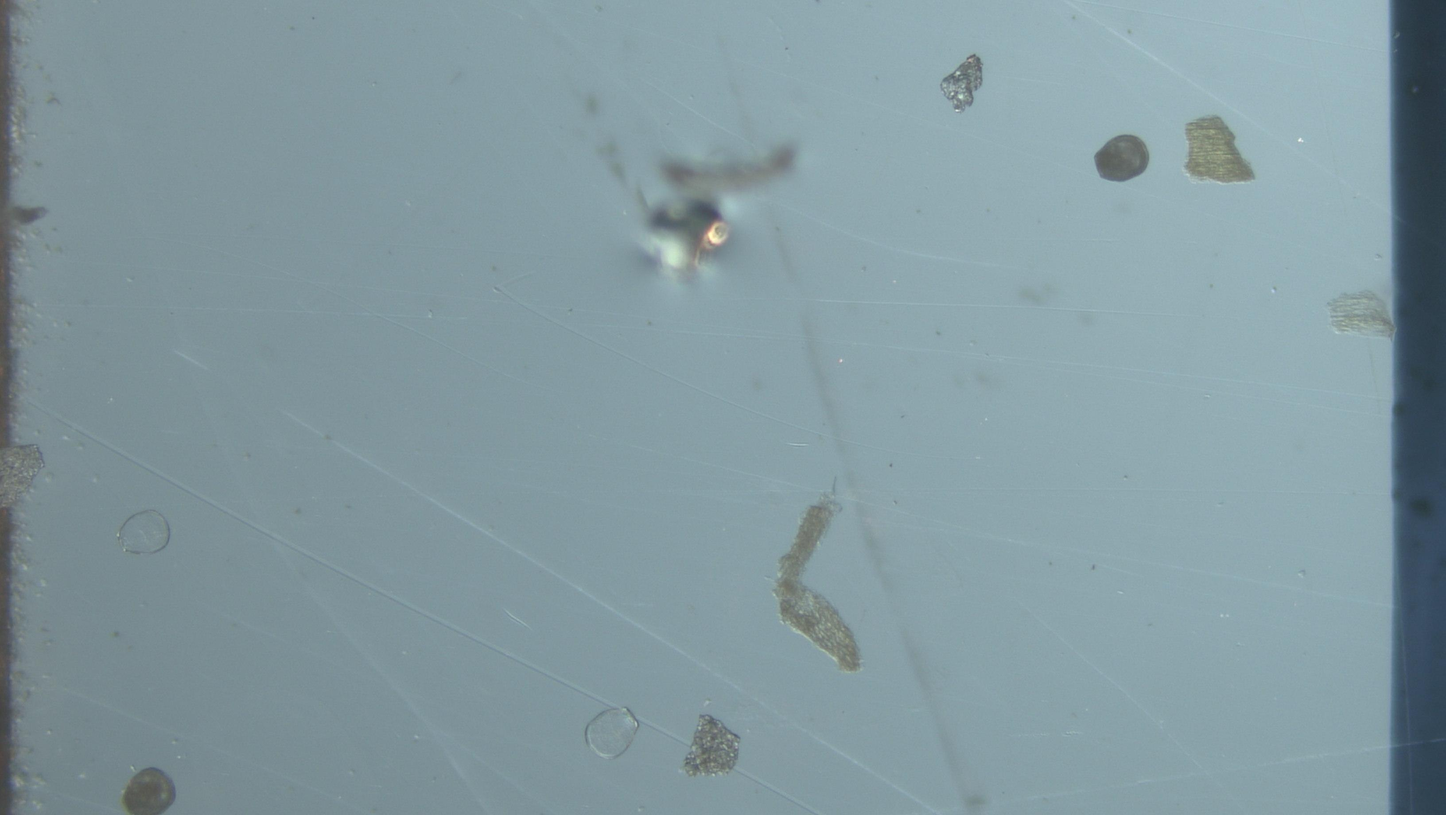dead: (585, 708, 640, 759), (118, 510, 171, 555)
live: (1095, 135, 1150, 182), (122, 768, 176, 815)
